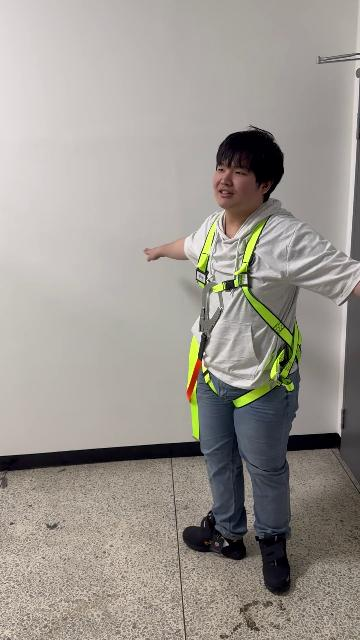helmet_not_worn: (213, 129, 286, 203)
shoe_worn: (183, 510, 246, 559), (256, 532, 290, 592)
vest_worn: (183, 213, 301, 435)
